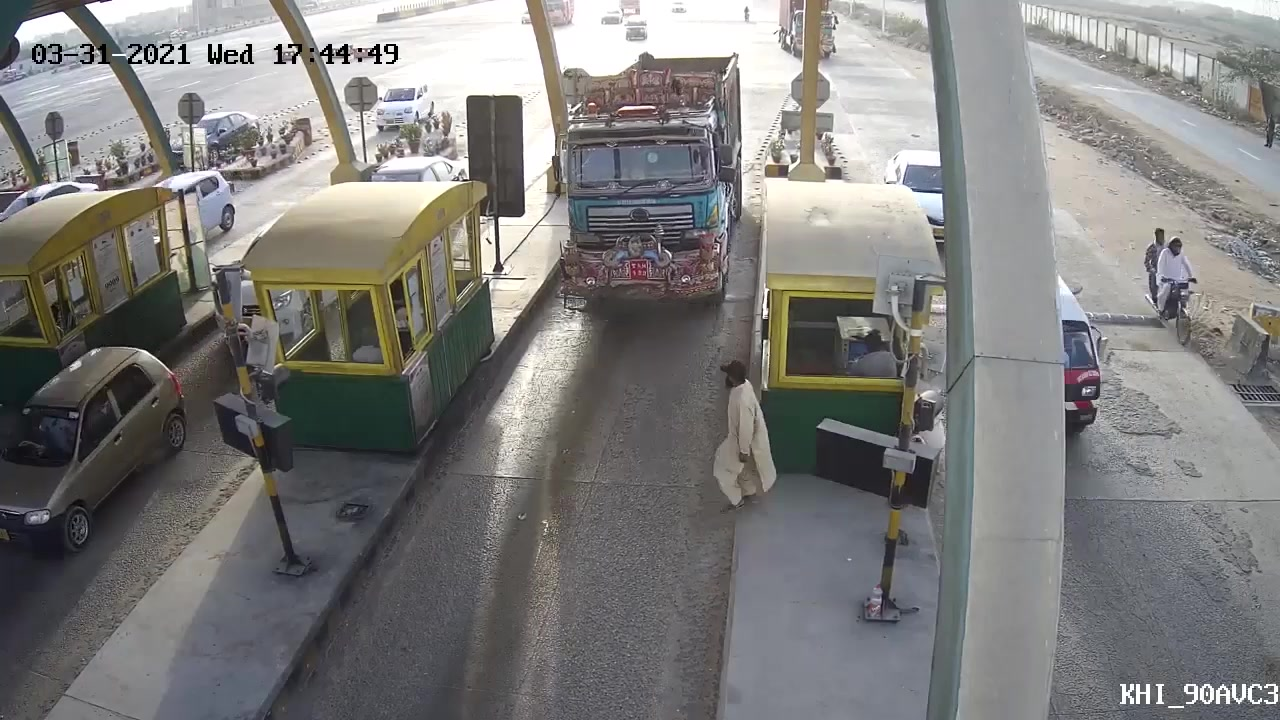F5: (553, 68, 740, 311)
